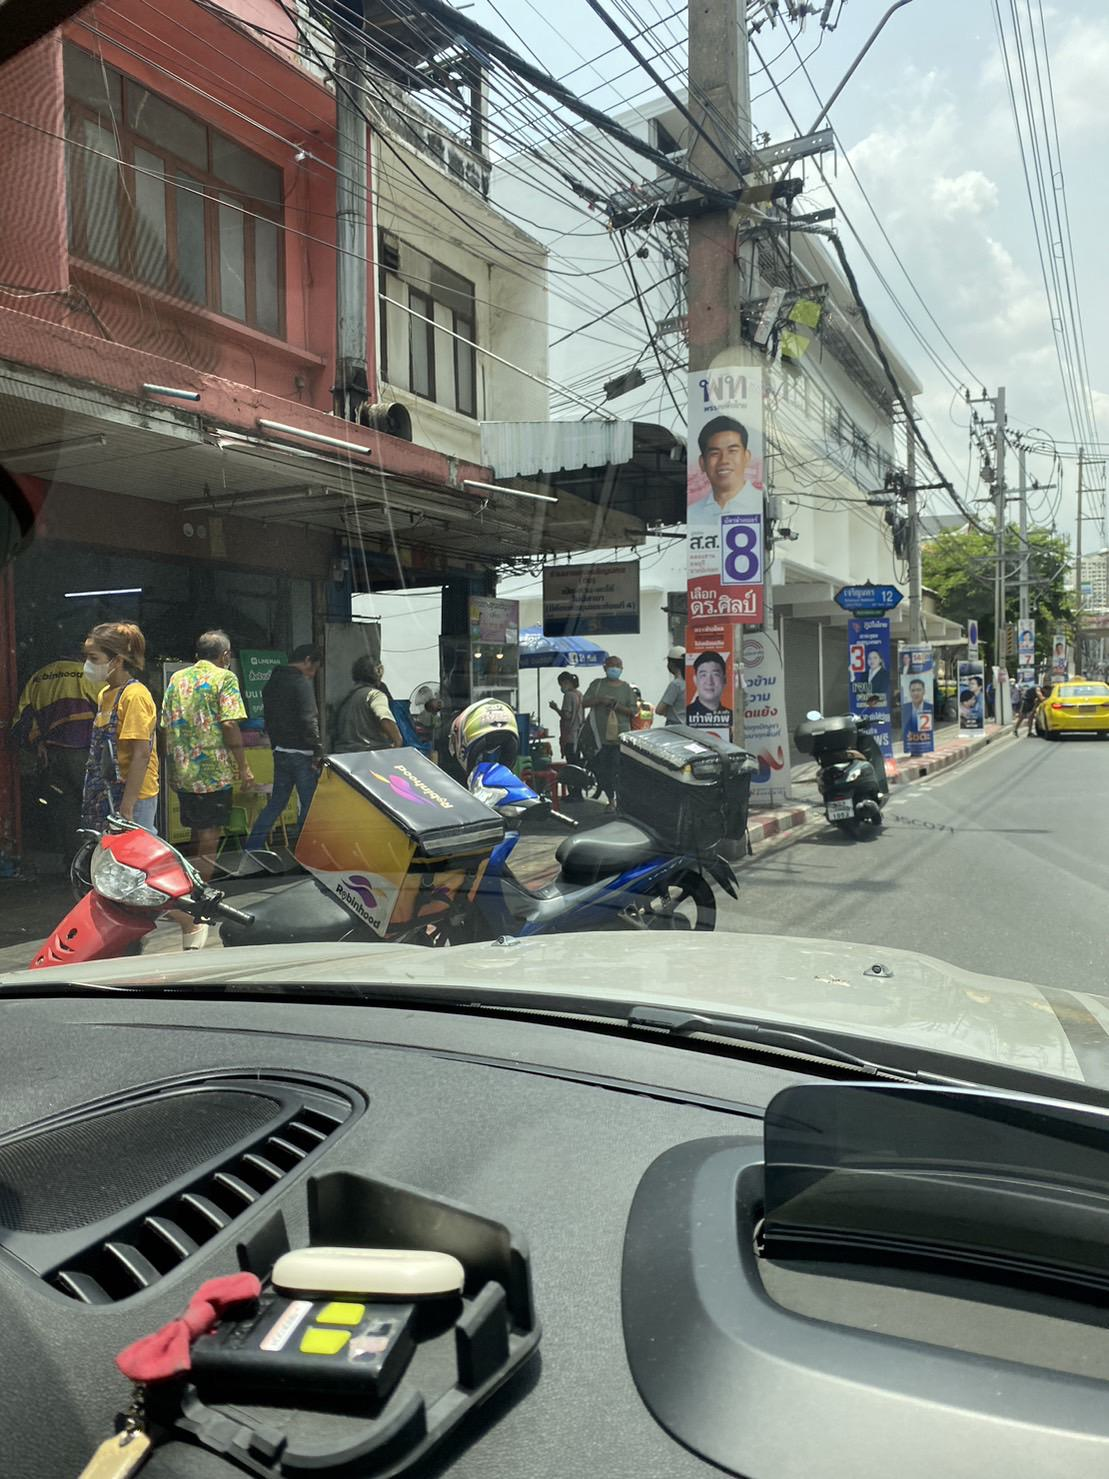Banner: (681, 360, 780, 630)
